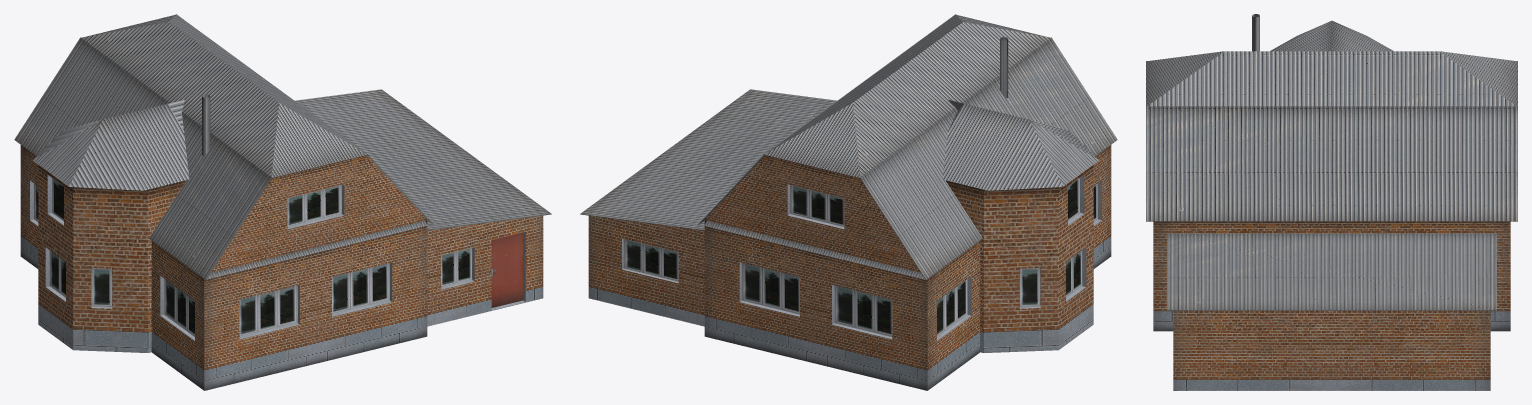
Rendered from r402_abatskoe_dom_1et3.FBX.
3 views of the same model, side by side, from view 1: azimuth 30°, elevation 25°; view 2: azimuth 150°, elevation 25°; view 3: azimuth 270°, elevation 25° (orthographic). The views are drawn at different scales.
Visible parts, largest first — view 1: r402_abatskoe_dom_1et3; view 2: r402_abatskoe_dom_1et3; view 3: r402_abatskoe_dom_1et3.
Boxes of the visible parts, x1,y1,x2,y2 form: r402_abatskoe_dom_1et3: (14,14,551,390); r402_abatskoe_dom_1et3: (580,14,1117,390); r402_abatskoe_dom_1et3: (1146,14,1517,390).
Bounding box in the file's own units: 1306 × 1041 × 729.
